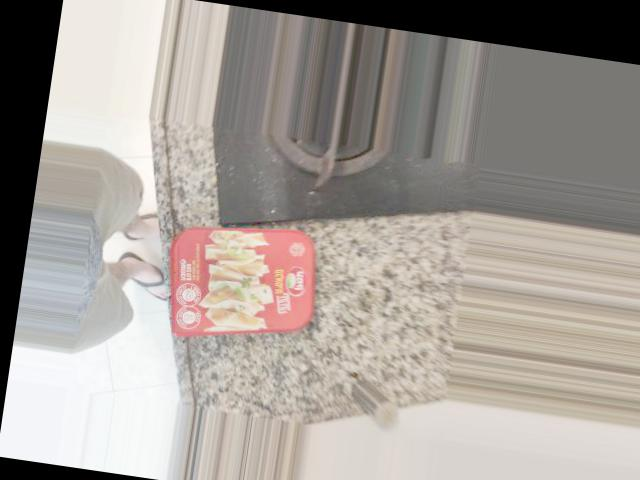cheese: (228, 196, 401, 343)
